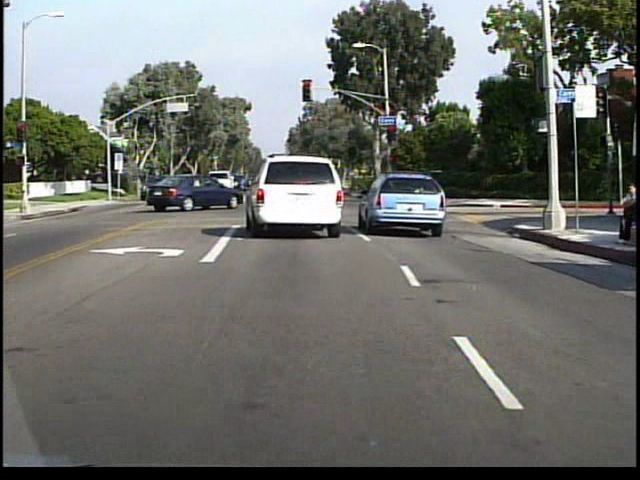person: (609, 179, 638, 248)
